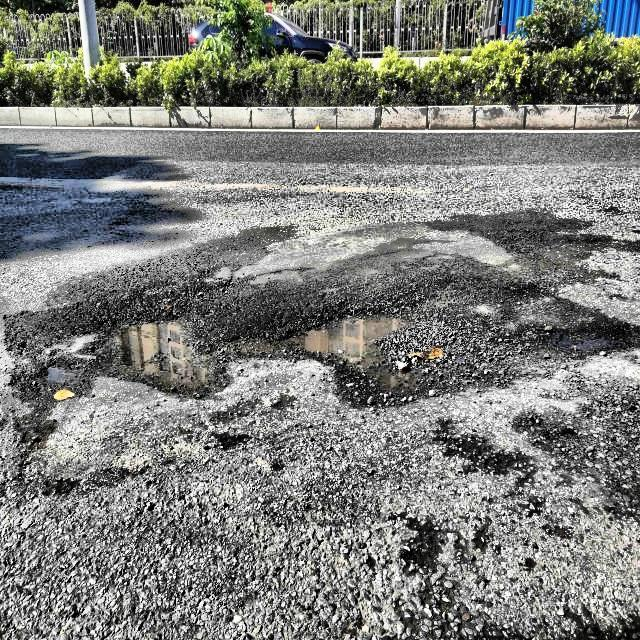buraco: (252, 296, 442, 414), (114, 319, 214, 399), (34, 358, 76, 396)
